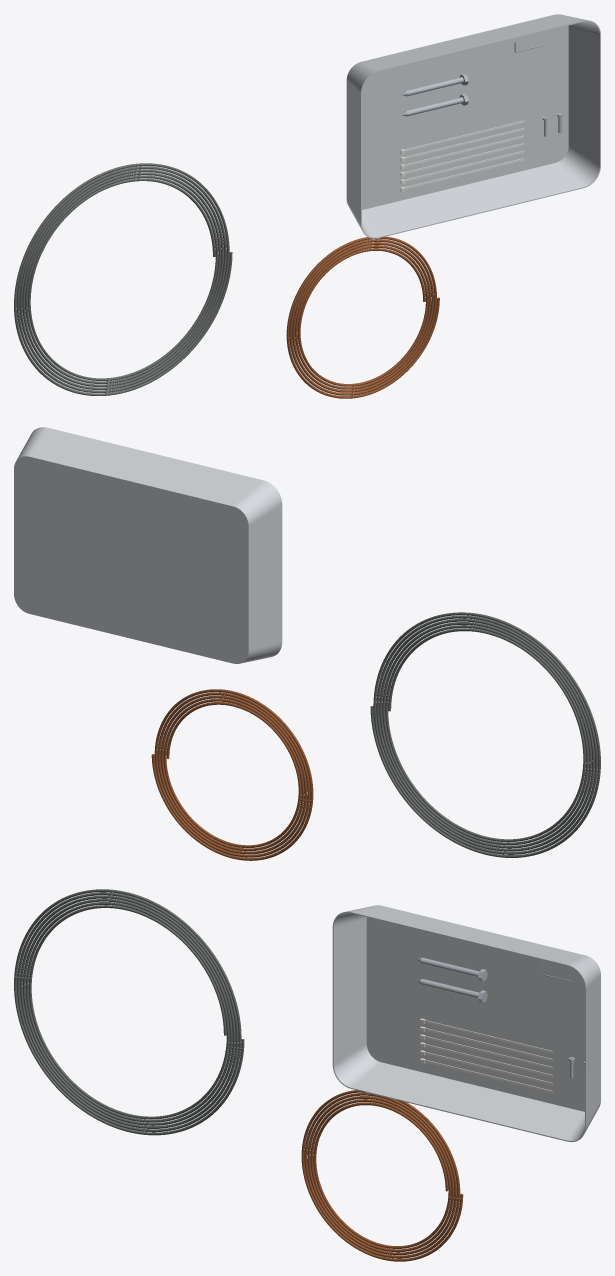
Rendered from weather_remainders_candidate.glb.
3 renders of one model, top to bottom at view 1: azimuth 30°, elevation 25°; view 2: azimuth 150°, elevation 25°; view 3: azimuth 330°, elevation 25°, orthographic. The views are drawn at different scales.
Visible parts, largest first — view 1: kit_tray__formed_tray, guy_wire_remainder, ground_wire_remainder; view 2: kit_tray__formed_tray, guy_wire_remainder, ground_wire_remainder; view 3: kit_tray__formed_tray, guy_wire_remainder, ground_wire_remainder, wind_kit__optional_wood_lag_2, wind_kit__optional_wood_lag_1.
Part boxes in pixels (<box>): kit_tray__formed_tray: <box>346,14,600,238</box>; guy_wire_remainder: <box>14,163,232,395</box>; ground_wire_remainder: <box>286,236,439,398</box>; kit_tray__formed_tray: <box>14,427,282,663</box>; guy_wire_remainder: <box>370,612,600,857</box>; ground_wire_remainder: <box>151,689,313,860</box>; kit_tray__formed_tray: <box>332,905,600,1141</box>; guy_wire_remainder: <box>14,889,244,1135</box>; ground_wire_remainder: <box>301,1090,463,1261</box>; wind_kit__optional_wood_lag_2: <box>417,957,487,981</box>; wind_kit__optional_wood_lag_1: <box>417,978,487,1002</box>.
Size of the model in its own units: 0.7054 by 0.4105 by 0.05.
